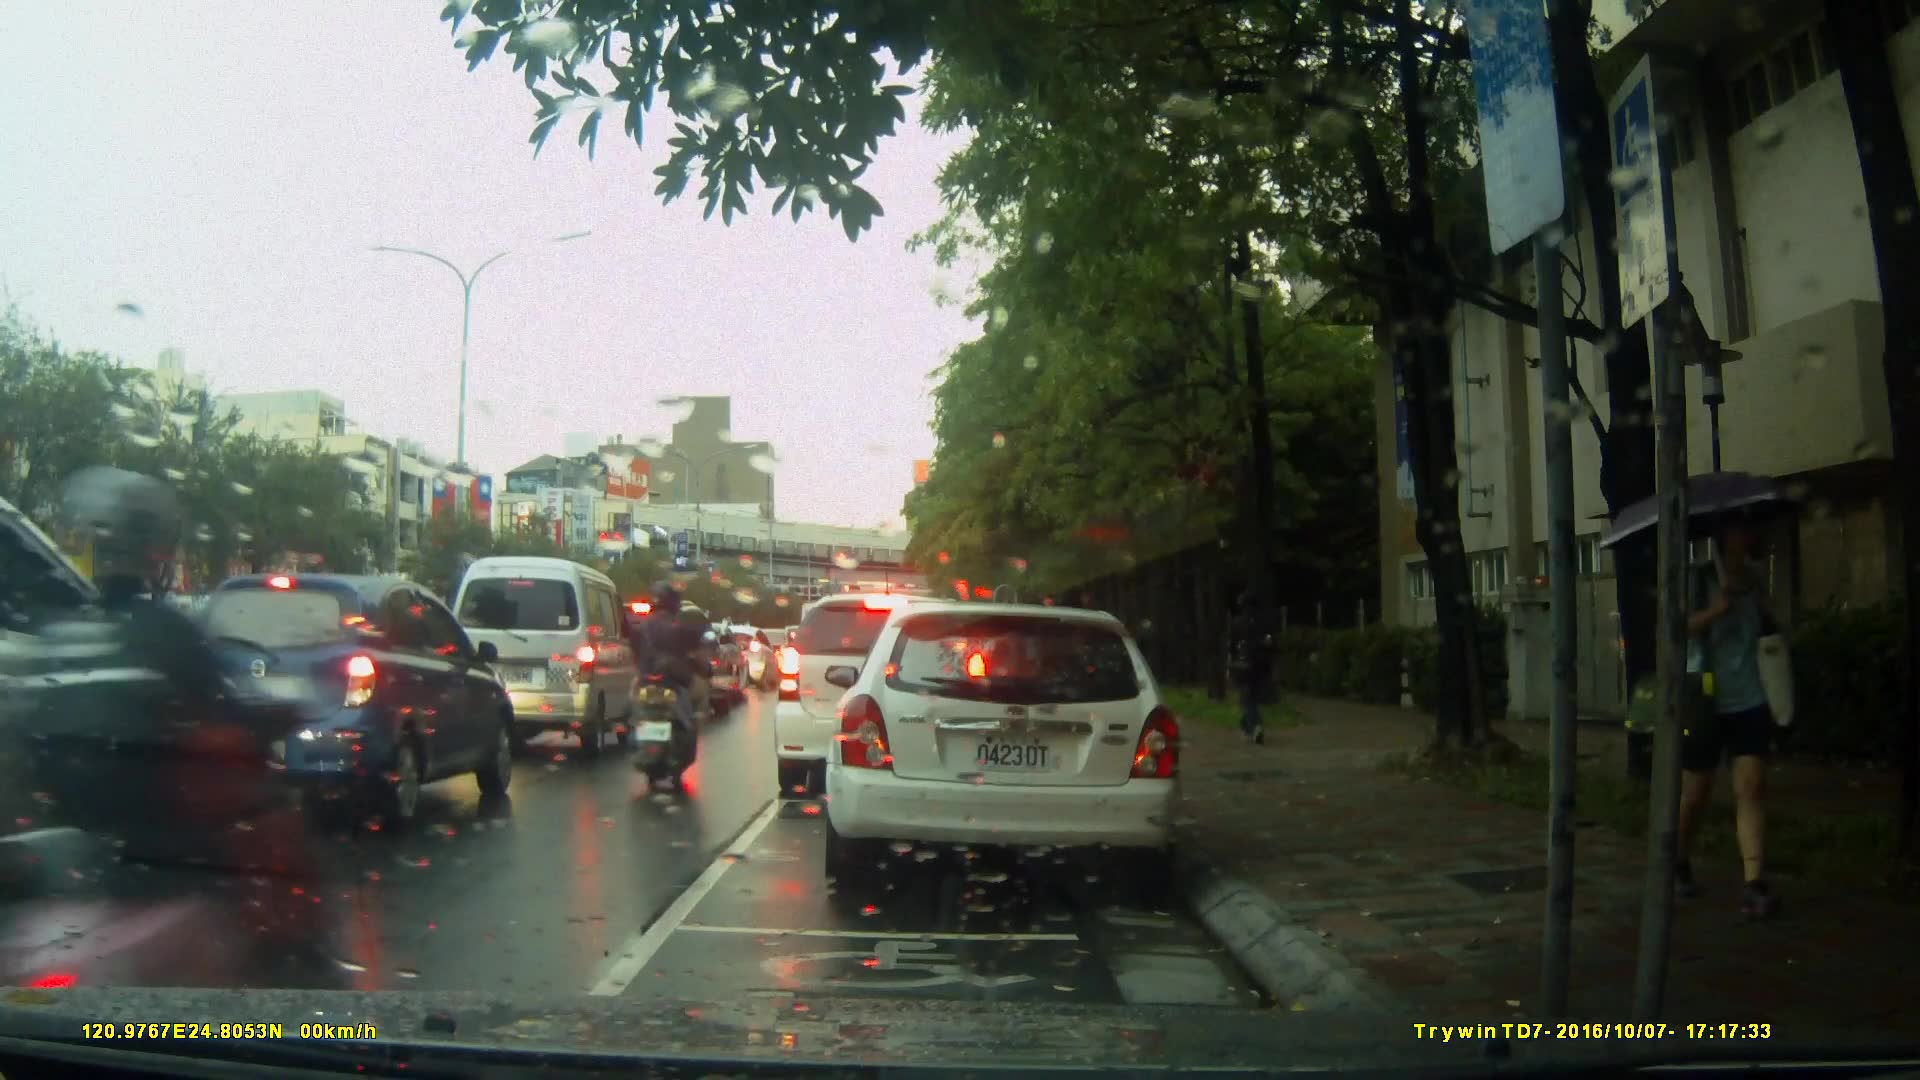pedestrian: (1672, 481, 1809, 927), (1215, 584, 1285, 755)
rider: (1, 473, 356, 1080), (622, 578, 709, 805)
vehicle: (1, 451, 261, 988), (815, 593, 1204, 909), (142, 569, 520, 832), (770, 590, 994, 802), (442, 554, 644, 762), (584, 602, 736, 724)
